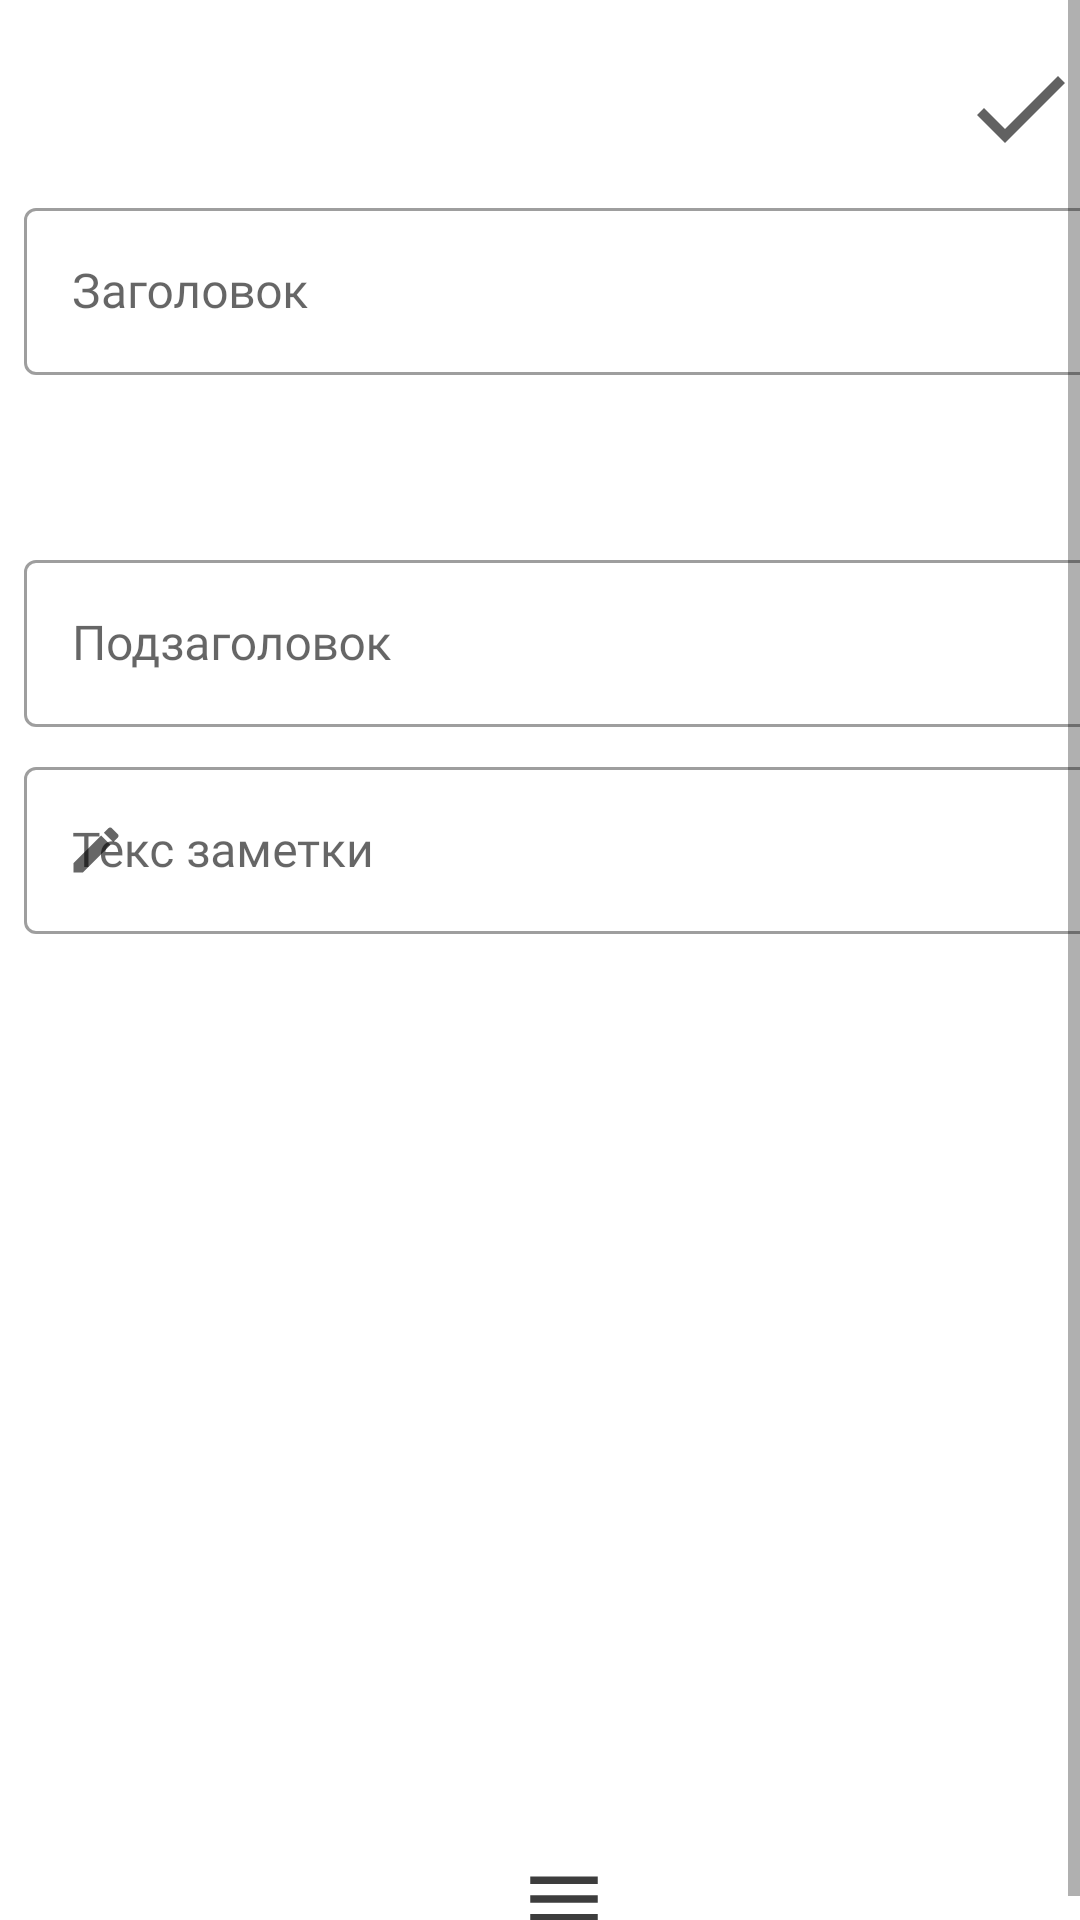

Locate icon controls on the screen. Image size 1080×1920, boxes as (x1, y1, x2, y2).
done: (977, 48, 1080, 168)
